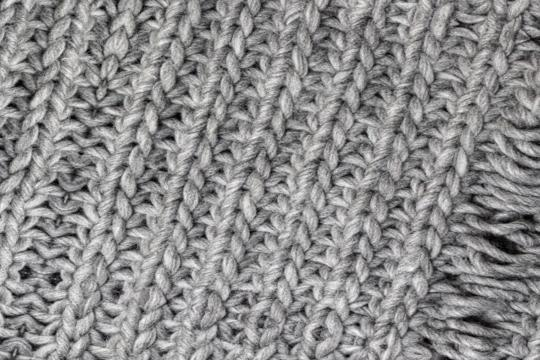slub: (408, 123, 539, 357)
